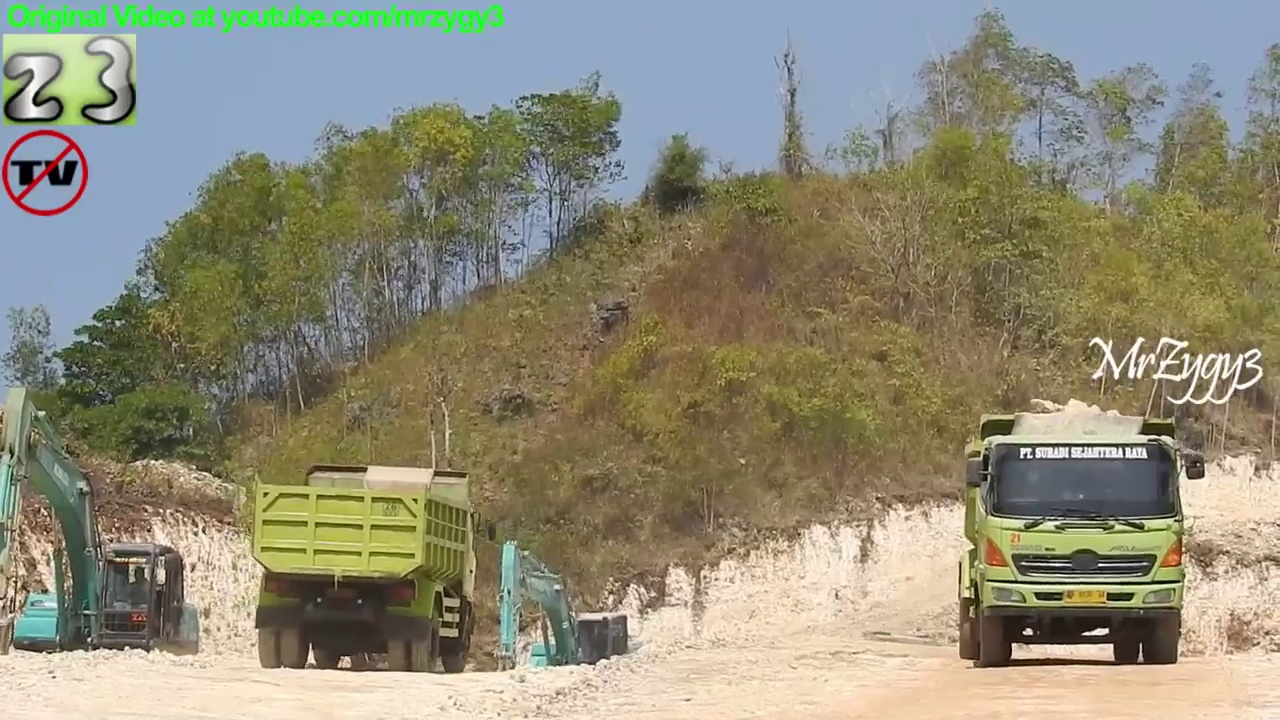excavator: (1, 388, 205, 703), (485, 533, 643, 702)
truck: (948, 396, 1209, 669), (246, 461, 499, 682)
